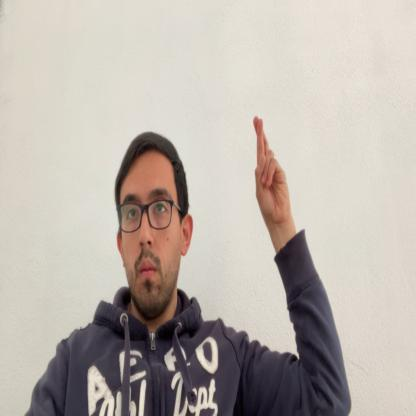R: (253, 114, 290, 226)
